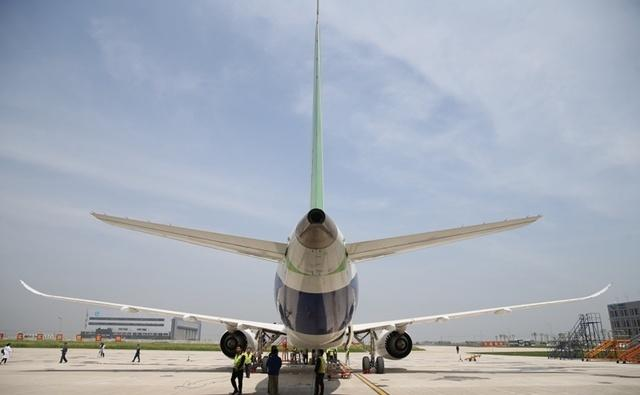airplane: (26, 4, 604, 362)
